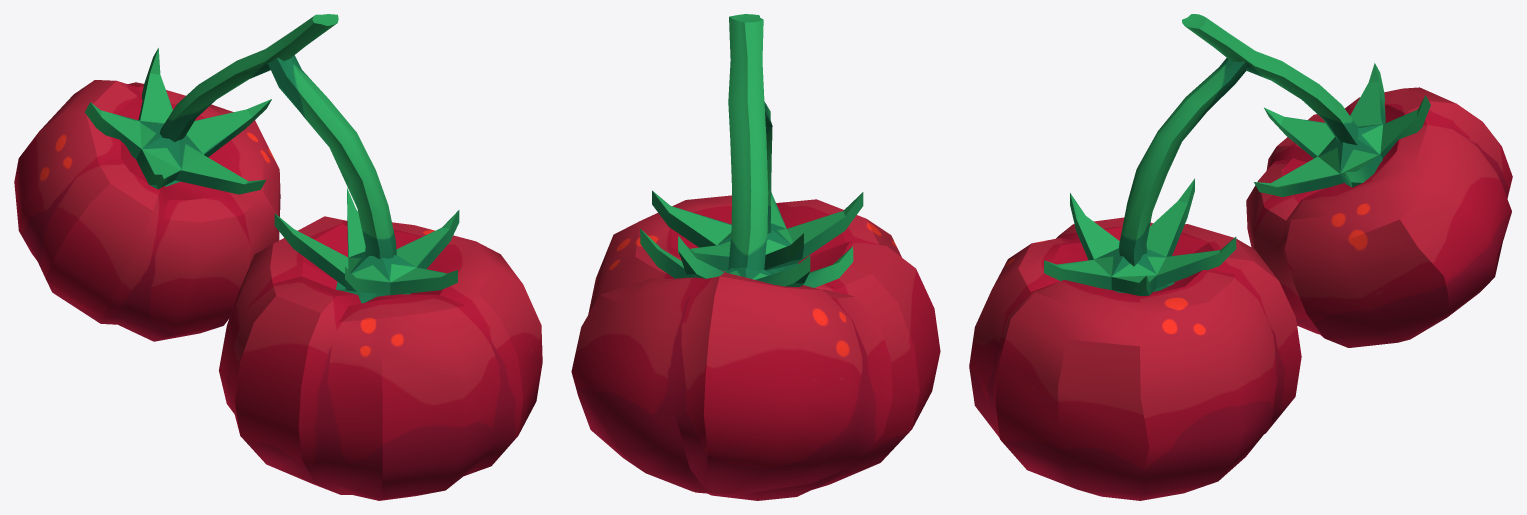
The model's file is tomatoWhole2_-_resized.fbx.
The picture shows the model from 3 angles, left to right: view 1: azimuth 30°, elevation 25°; view 2: azimuth 150°, elevation 25°; view 3: azimuth 270°, elevation 25°; orthographic projection. The views are drawn at different scales.
Parts seen in each view (by area): view 1: tomatoWhole body, tomatoWhole leaves; view 2: tomatoWhole body, tomatoWhole leaves; view 3: tomatoWhole body, tomatoWhole leaves.
Boxes of the visible parts, box(x1,y1,x2,y2) form: tomatoWhole body: box(14, 14, 542, 500); tomatoWhole leaves: box(84, 48, 459, 295); tomatoWhole body: box(571, 14, 940, 500); tomatoWhole leaves: box(640, 190, 863, 287); tomatoWhole body: box(969, 14, 1512, 500); tomatoWhole leaves: box(1044, 63, 1430, 295).
Bounding box in the file's own units: 106 × 122 × 135.
2 materials, 2 textured.
